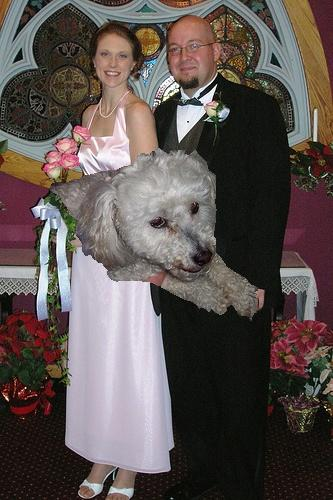tampered: (50, 148, 258, 321)
